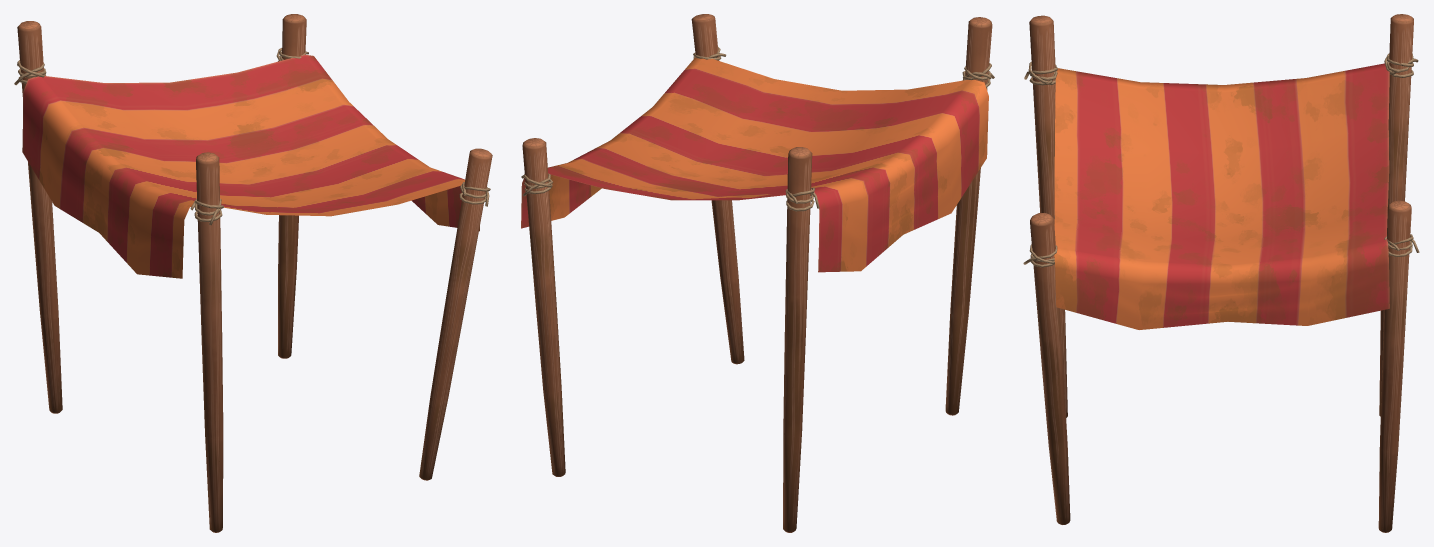
Rendered from shop_tent_1.fbx.
3 renders of one model, left to right at view 1: azimuth 30°, elevation 25°; view 2: azimuth 150°, elevation 25°; view 3: azimuth 270°, elevation 25°, orthographic.
Parts seen in each view (by area): view 1: shop_tent_1; view 2: shop_tent_1; view 3: shop_tent_1.
Part boxes in pixels (<box>): shop_tent_1: <box>14,14,492,532</box>; shop_tent_1: <box>521,14,994,532</box>; shop_tent_1: <box>1023,14,1419,532</box>.
Bounding box in the file's own units: 3.02 × 3.69 × 3.37.
